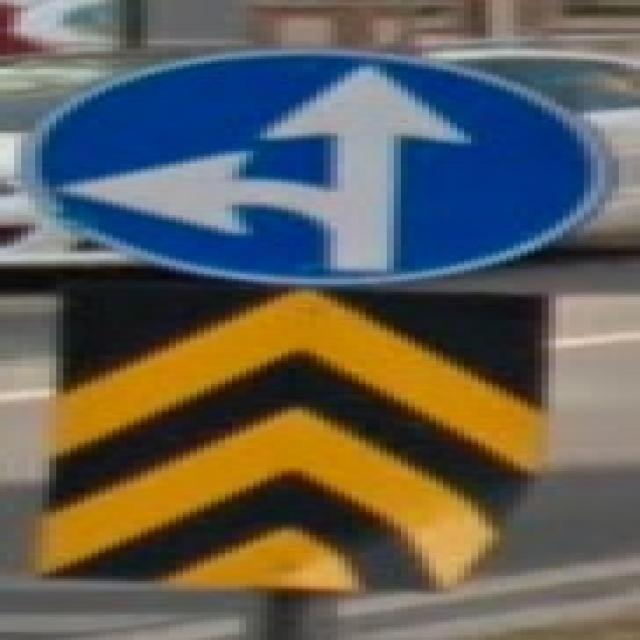Straight or Left: (26, 50, 617, 285)
